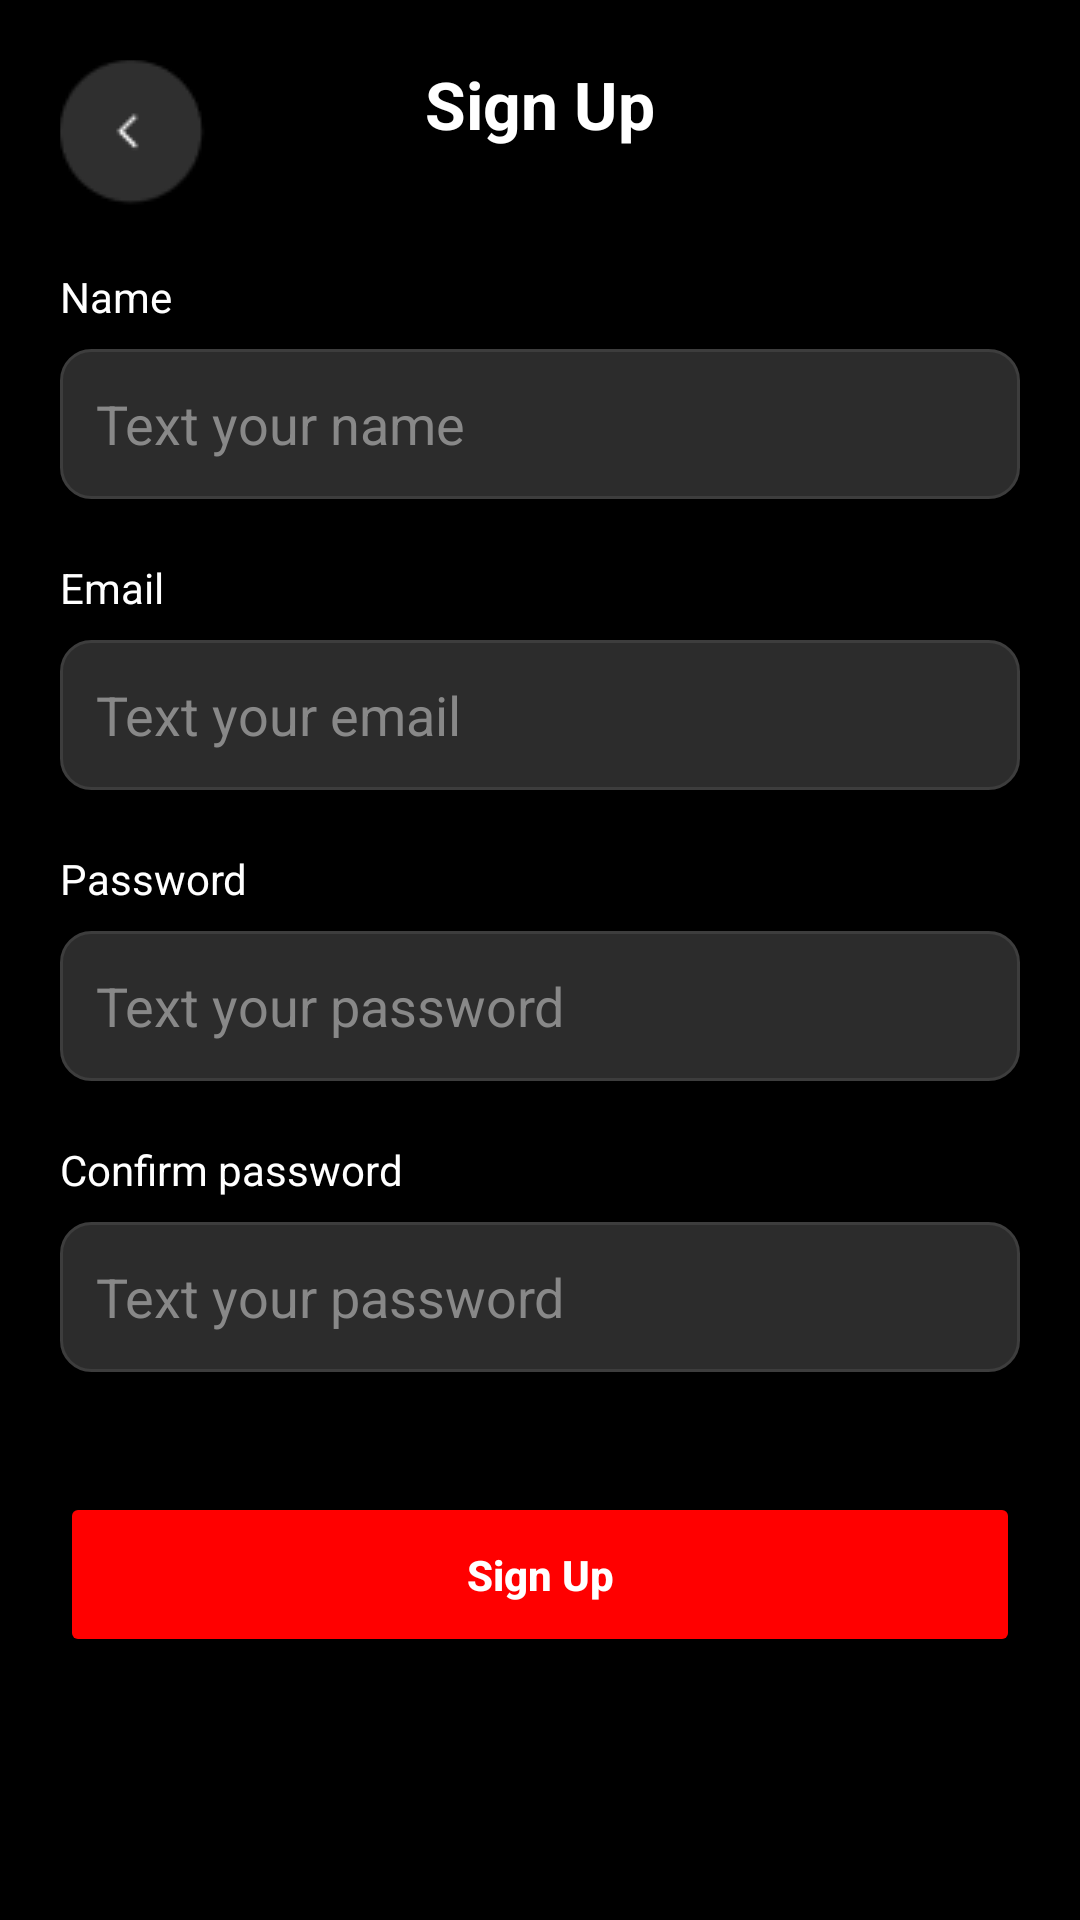

Named icons in this screenshot (1080px×1920px) and their bounding boxes, (x1, y1, x2, y2):
Back: (60, 60, 201, 202)
